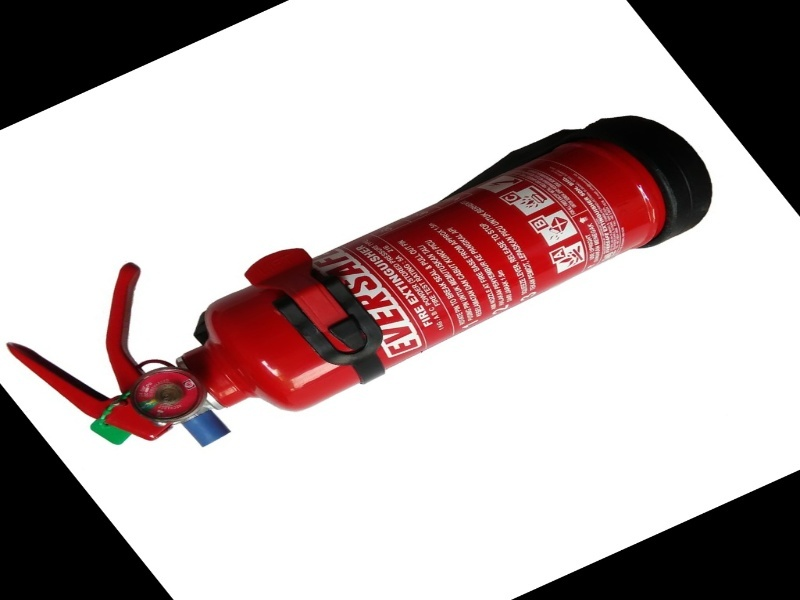fire_extinguisher: (7, 43, 761, 455)
